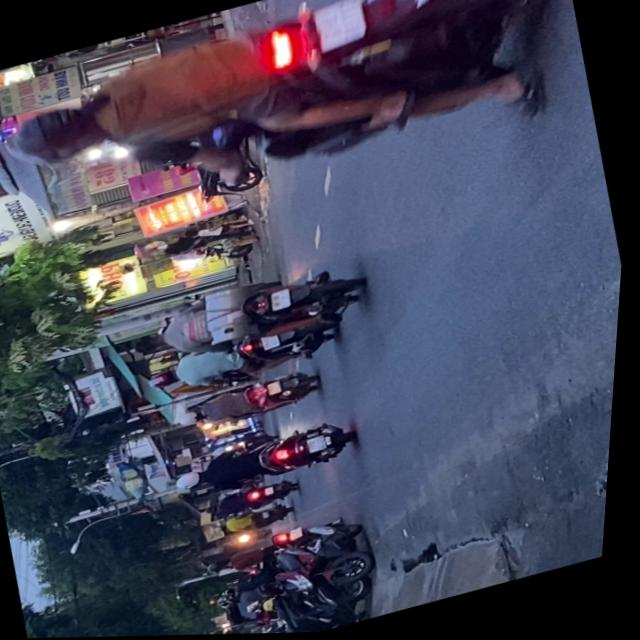helmet: (6, 90, 117, 172), (150, 365, 185, 390), (178, 468, 212, 491)
licenseplate: (0, 0, 581, 240), (124, 253, 375, 371), (146, 313, 347, 403), (173, 414, 367, 504)
motorcyclist: (134, 330, 171, 356)
nohelmet: (309, 0, 369, 52), (272, 288, 296, 310), (310, 435, 334, 453), (265, 334, 285, 350)
